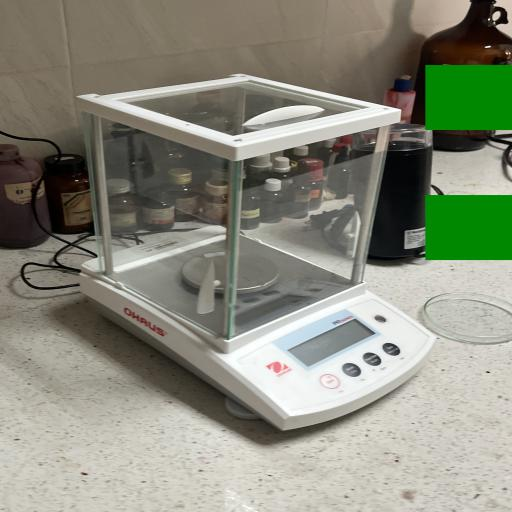Balanza_Analitica_Ohaus: (62, 68, 460, 444)
